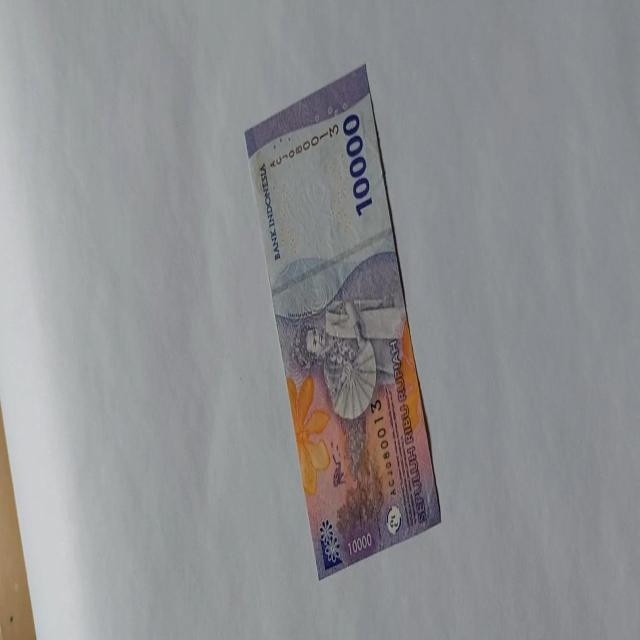Kertas: (243, 62, 442, 580)
